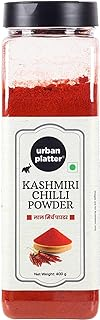Coffee: (1, 2, 100, 319)
